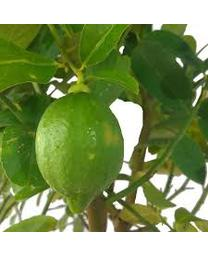lemon: (36, 91, 124, 213)
